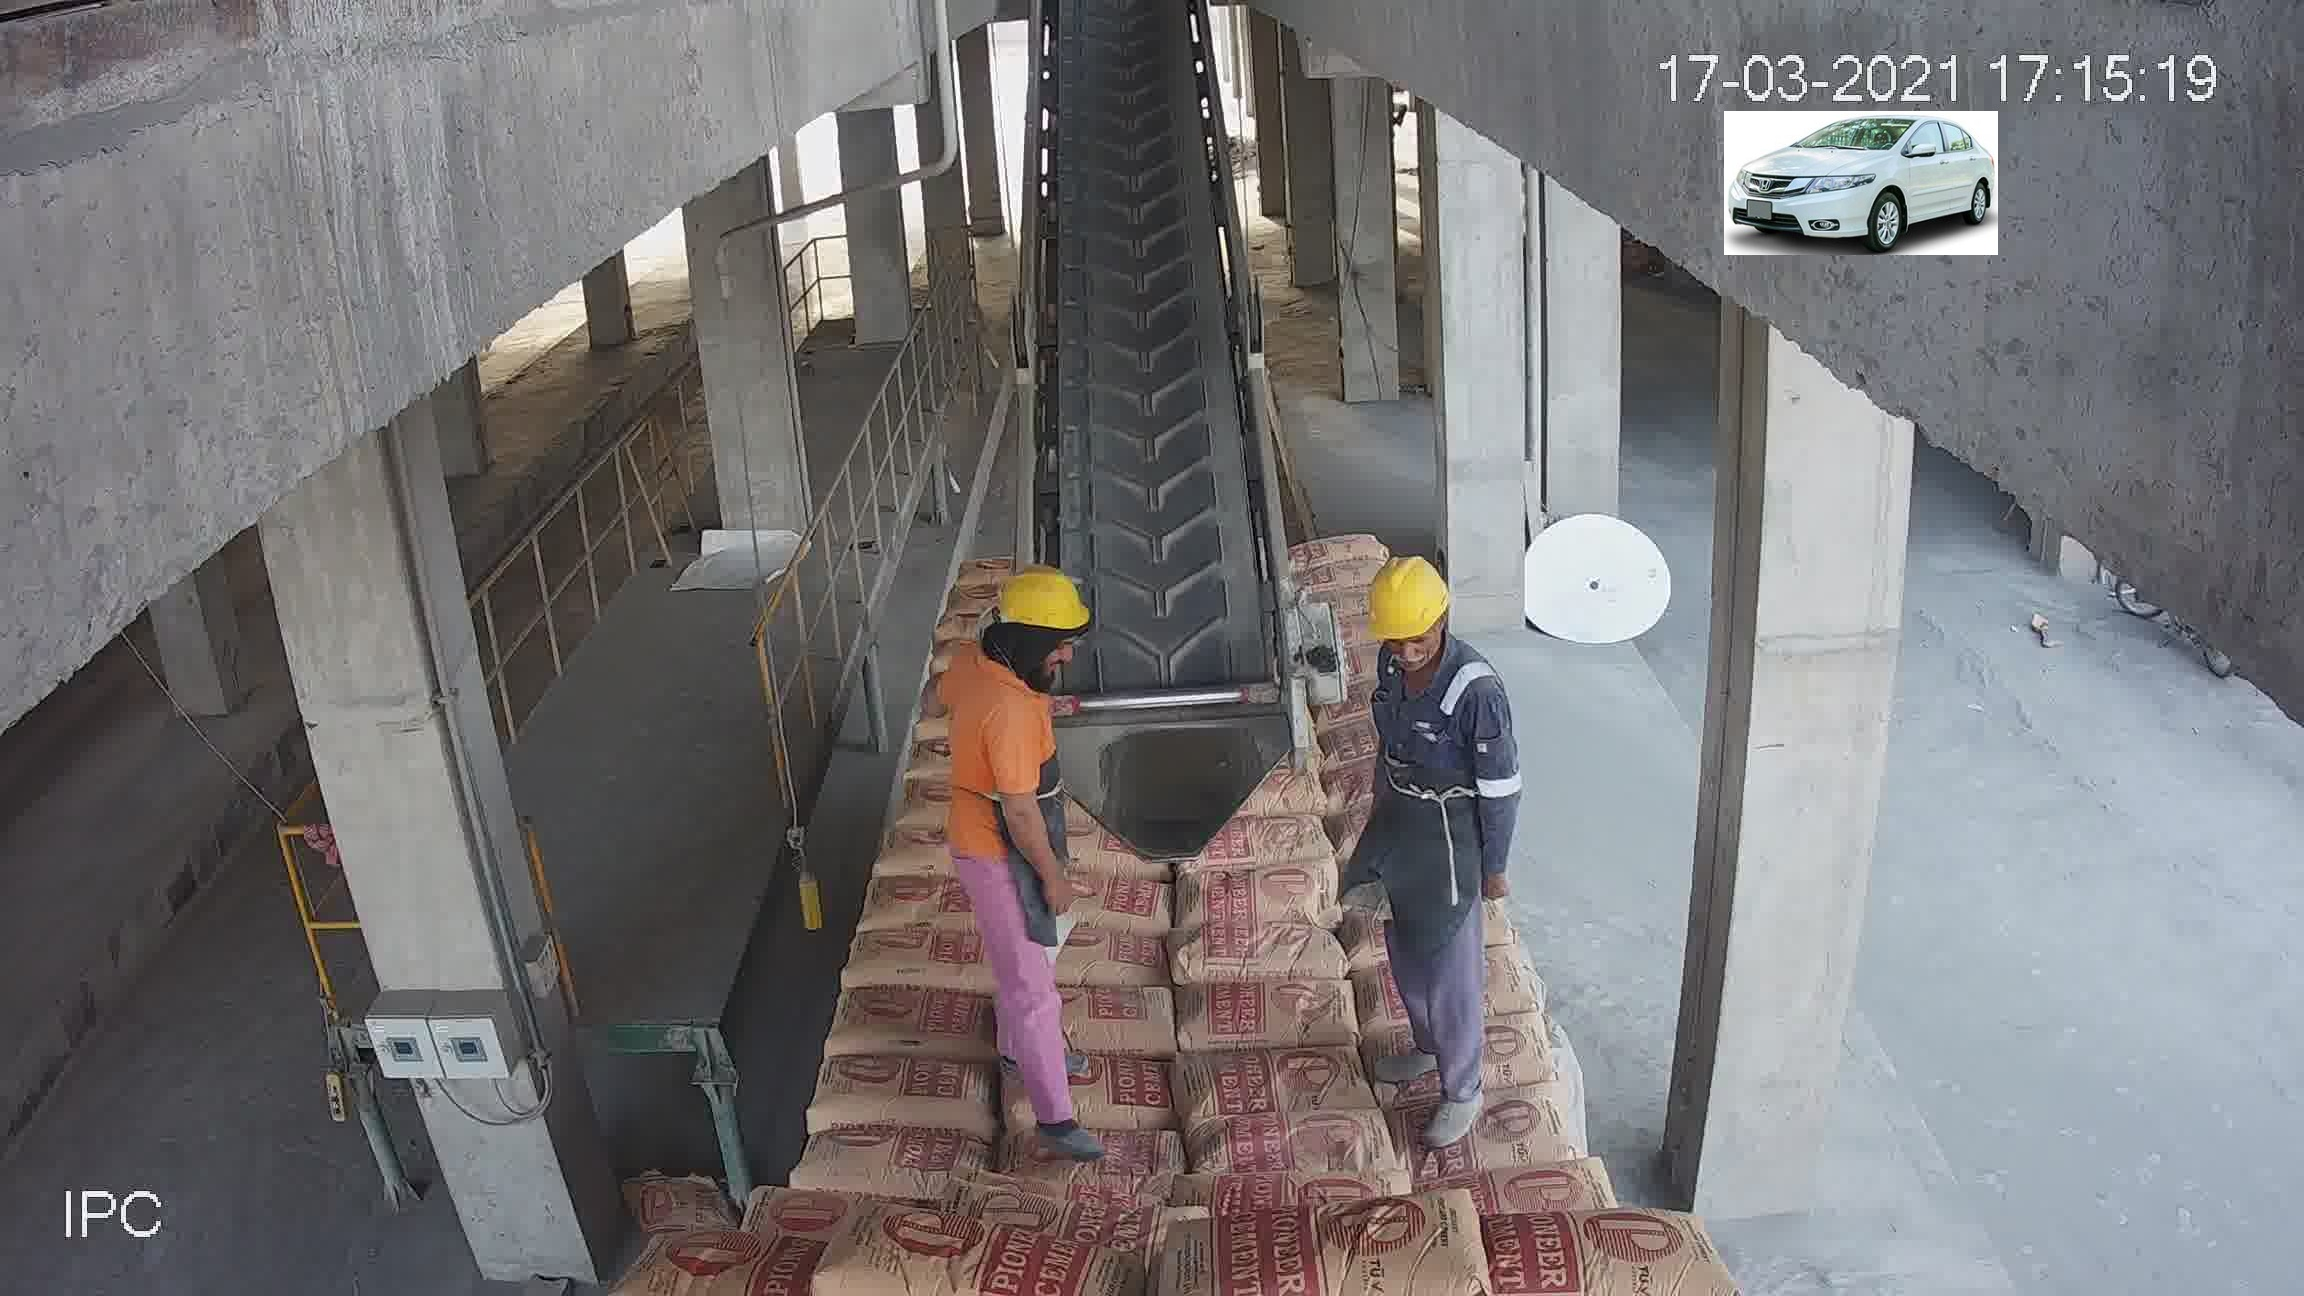bag_h: (1196, 1204, 1510, 1294), (813, 1222, 1112, 1294), (1438, 1211, 1698, 1293), (1386, 1082, 1579, 1184), (796, 1057, 1006, 1139), (1196, 1109, 1397, 1192), (1190, 1046, 1367, 1131), (639, 1226, 850, 1296), (1169, 976, 1361, 1052), (824, 980, 1008, 1059), (994, 1139, 1195, 1211), (1032, 986, 1218, 1062), (786, 1120, 999, 1184), (1036, 1055, 1207, 1133), (1176, 924, 1353, 991), (1177, 861, 1337, 934), (1440, 1165, 1611, 1226)
belt: (1021, 28, 1298, 837)
